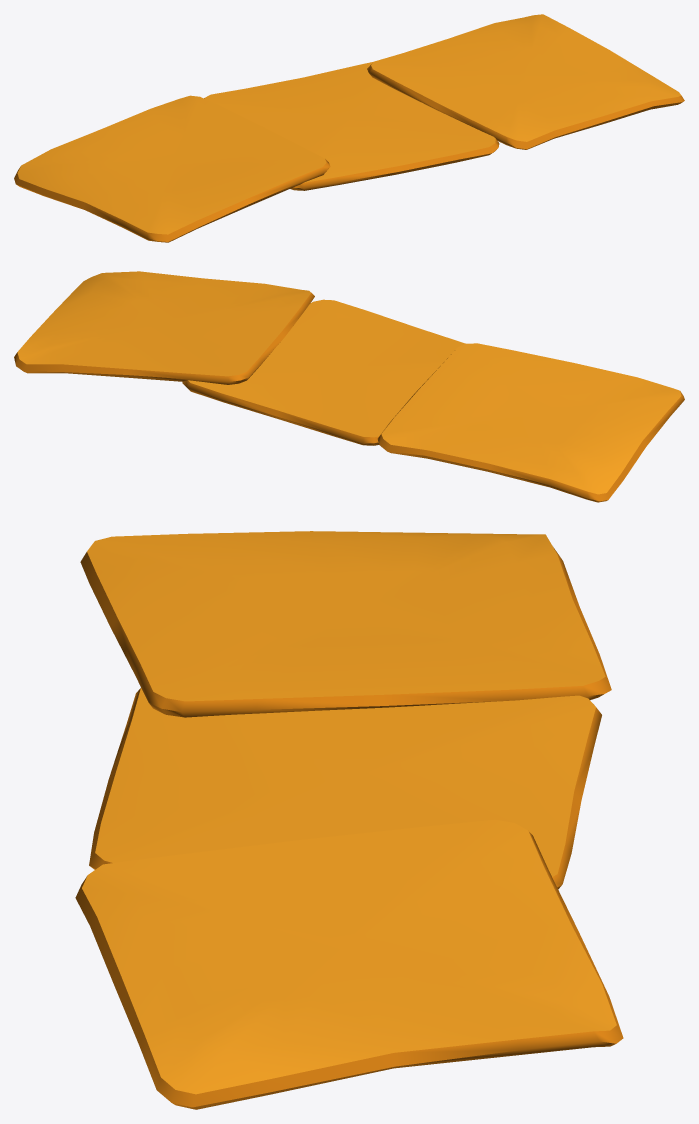
The model's file is Food_Cheddar.fbx.
3 views of the same model, one above another, from view 1: azimuth 30°, elevation 25°; view 2: azimuth 150°, elevation 25°; view 3: azimuth 270°, elevation 25° (orthographic). The views are drawn at different scales.
Visible parts, largest first — view 1: Cheese, CheeseEdge; view 2: Cheese, CheeseEdge; view 3: Cheese, CheeseEdge.
Part boxes in pixels (left/top/right/bottom): Cheese: left=17, top=14, right=681, bottom=234; CheeseEdge: left=14, top=64, right=684, bottom=242; Cheese: left=17, top=271, right=681, bottom=494; CheeseEdge: left=14, top=293, right=684, bottom=502; Cheese: left=82, top=531, right=616, bottom=1094; CheeseEdge: left=75, top=547, right=623, bottom=1109.
Bounding box in the file's own units: 228 × 13.23 × 92.24.
